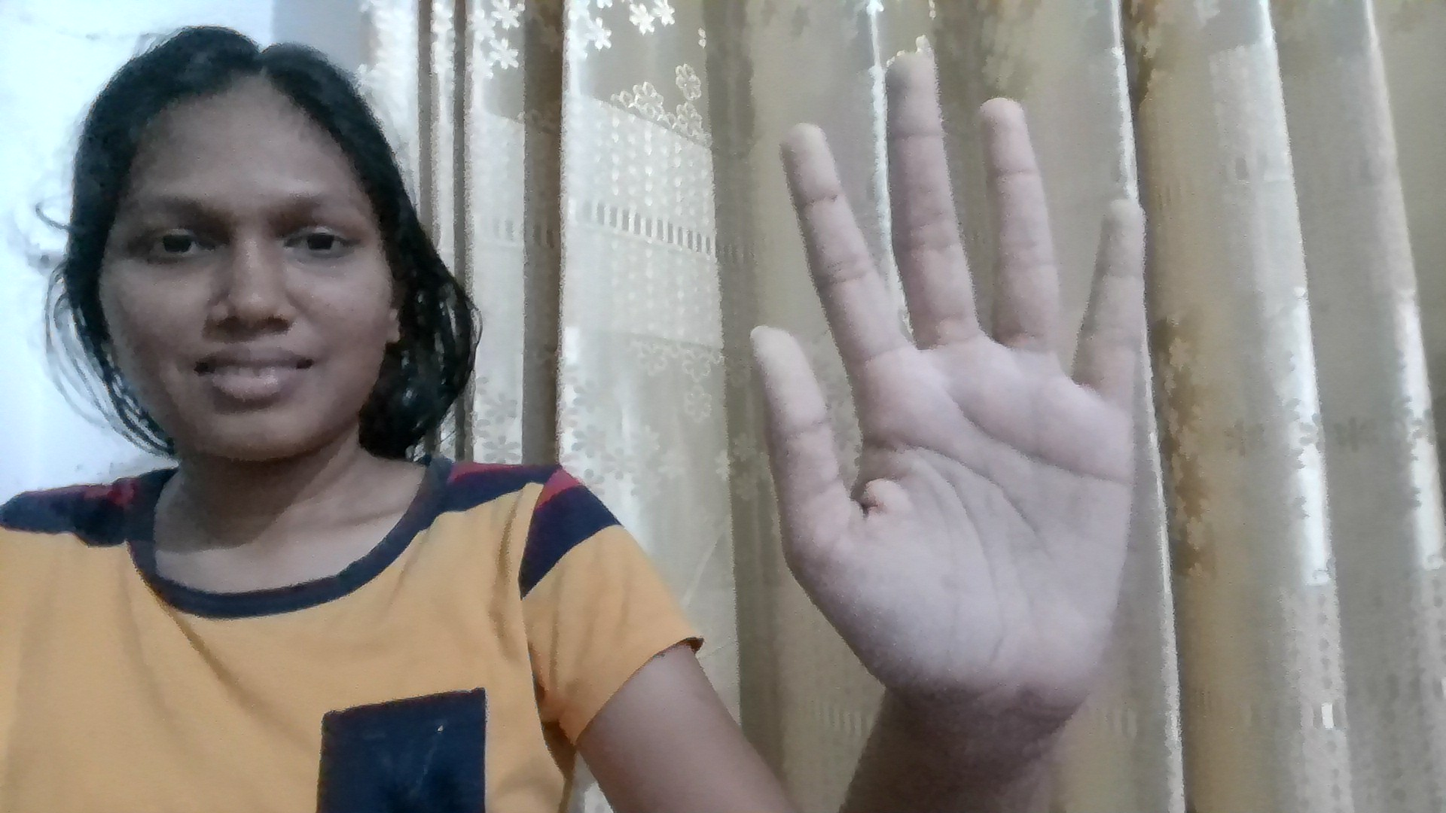Hello: (717, 32, 1334, 740)
